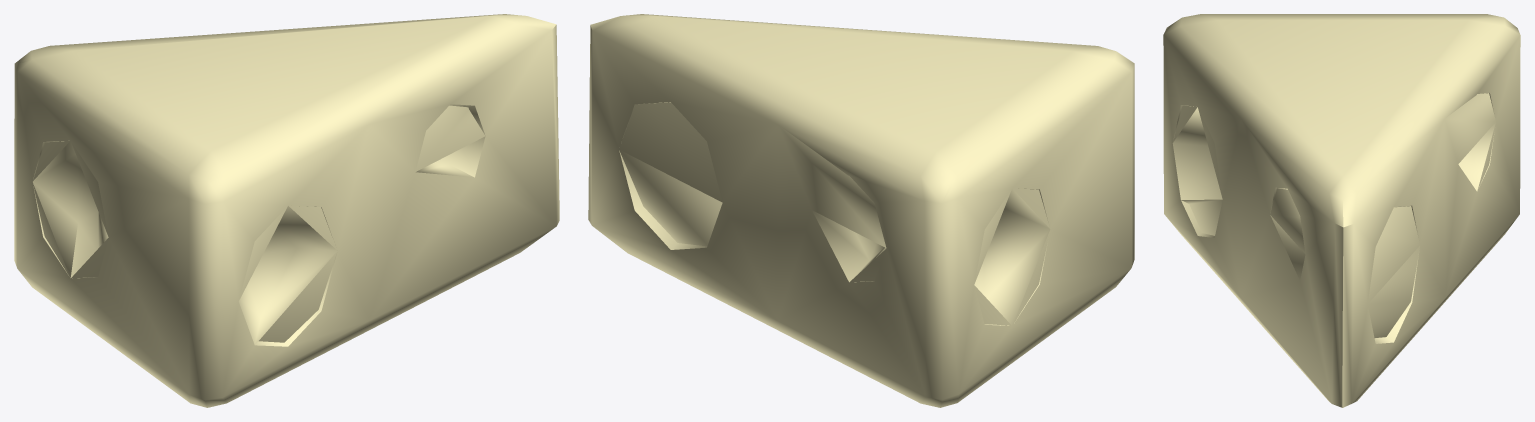
The model's file is item_stinky_cheese.glb.
The picture shows the model from 3 angles, left to right: view 1: azimuth 30°, elevation 25°; view 2: azimuth 150°, elevation 25°; view 3: azimuth 270°, elevation 25°; orthographic projection. The views are drawn at different scales.
Parts seen in each view (by area): view 1: food_ingredient_cheese; view 2: food_ingredient_cheese; view 3: food_ingredient_cheese.
Part boxes in pixels (left/top/right/bottom): food_ingredient_cheese: left=14, top=14, right=559, bottom=407; food_ingredient_cheese: left=588, top=14, right=1134, bottom=407; food_ingredient_cheese: left=1163, top=14, right=1520, bottom=407.
Bounding box in the file's own units: 0.3162 × 0.1619 × 0.2338.
